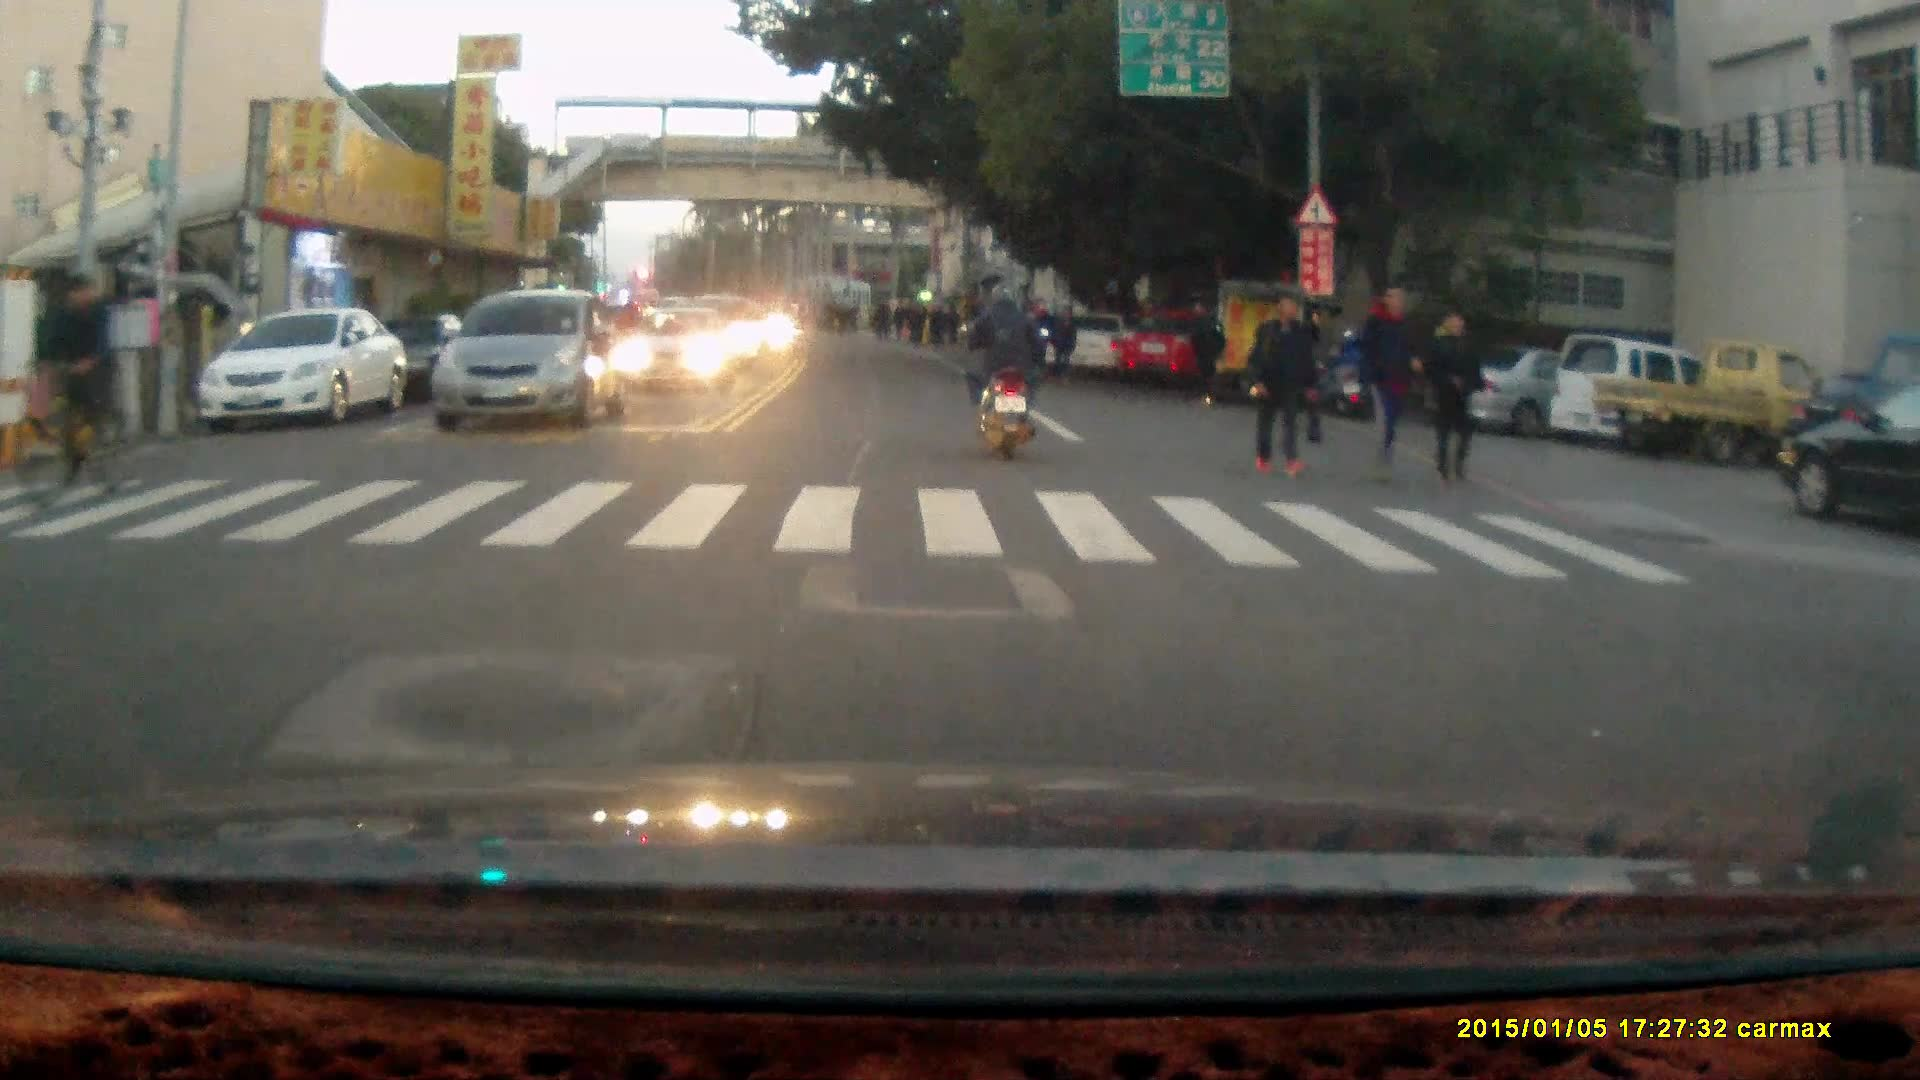pedestrian: (1354, 275, 1425, 489), (1246, 285, 1314, 483), (1425, 306, 1488, 488), (1184, 295, 1224, 406), (1052, 301, 1081, 383)
rider: (17, 267, 135, 520), (958, 277, 1047, 462)
vehicle: (1588, 335, 1833, 464), (427, 285, 628, 428), (197, 304, 413, 429), (1431, 337, 1671, 428), (1777, 386, 1920, 527), (620, 304, 733, 389), (1111, 302, 1220, 383)
